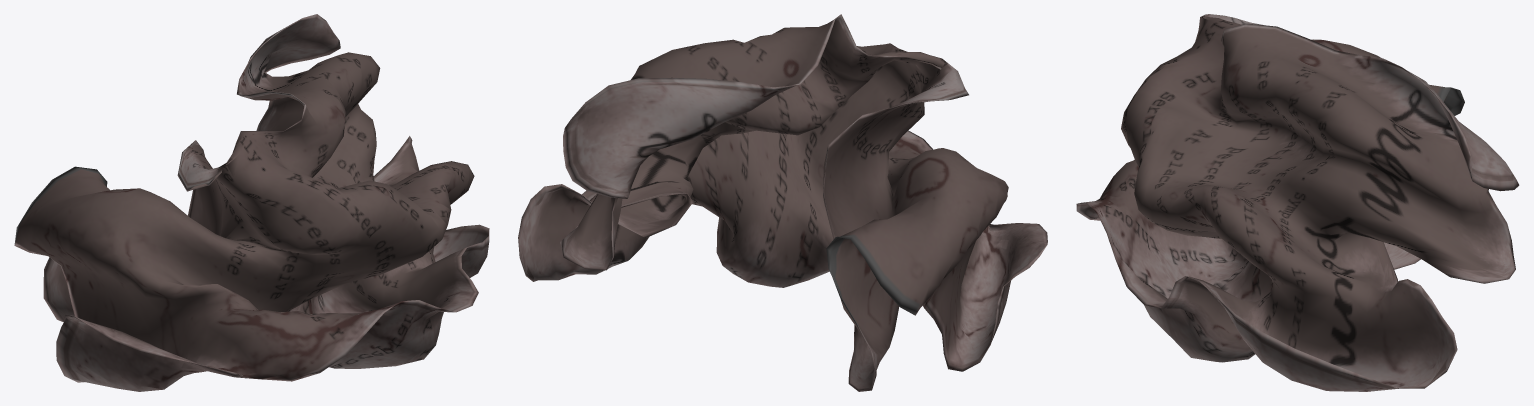
Rendered from SM_Crumpled_Paper_01b.fbx.
The picture shows the model from 3 angles, left to right: view 1: azimuth 30°, elevation 25°; view 2: azimuth 150°, elevation 25°; view 3: azimuth 270°, elevation 25°; orthographic projection. The views are drawn at different scales.
Parts seen in each view (by area): view 1: SM_Crumpled_Paper_01b_LOD0; view 2: SM_Crumpled_Paper_01b_LOD0; view 3: SM_Crumpled_Paper_01b_LOD0.
Boxes of the visible parts, left/top/right/bottom form: SM_Crumpled_Paper_01b_LOD0: left=14, top=14, right=489, bottom=391; SM_Crumpled_Paper_01b_LOD0: left=518, top=14, right=1047, bottom=391; SM_Crumpled_Paper_01b_LOD0: left=1076, top=14, right=1519, bottom=391.
Size of the model in its own units: 6.25 by 5.24 by 3.81.
